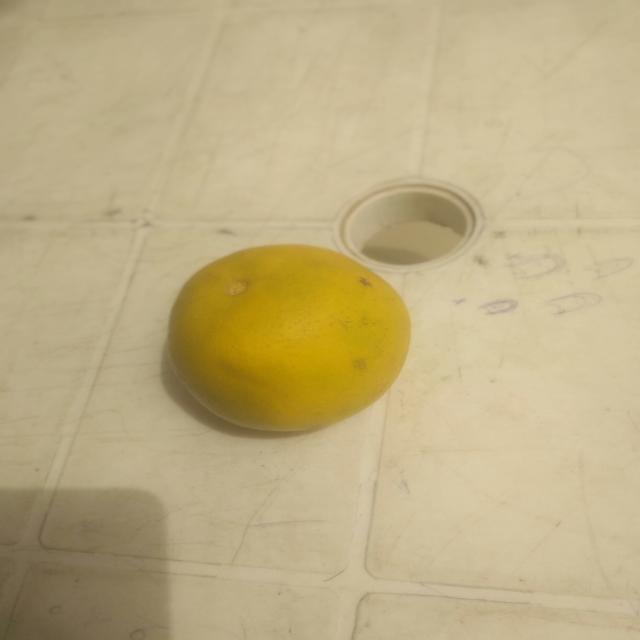Ripe orange: (164, 236, 416, 440)
